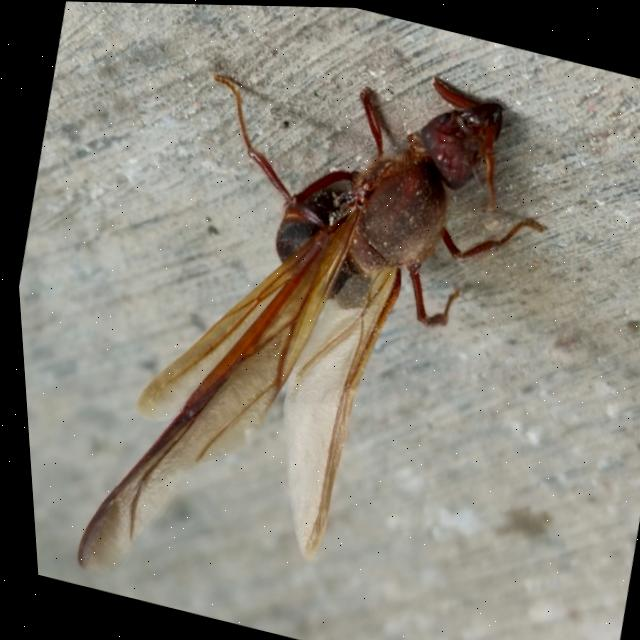Dead-Female-Alate: (36, 2, 599, 640)
